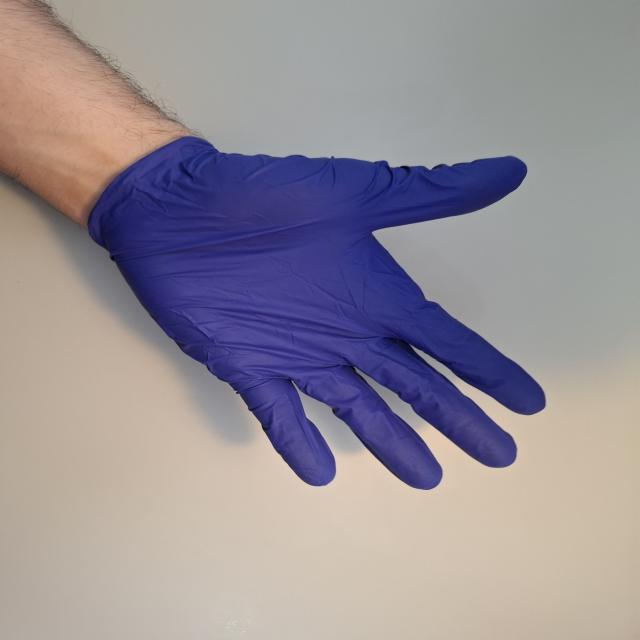glove_on: (88, 142, 550, 492)
